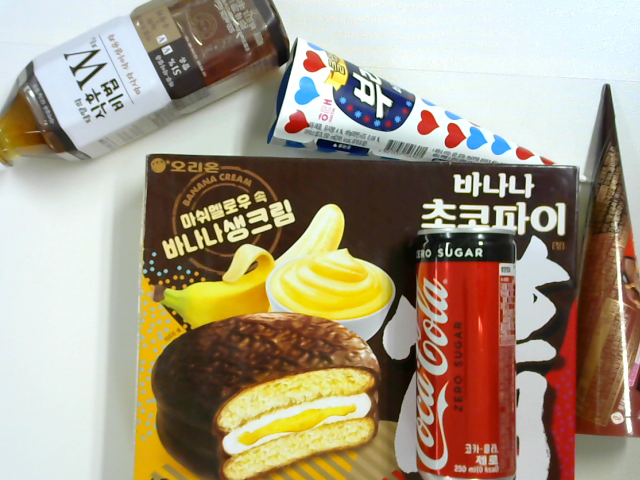Bravo_Cone_(Banila)_CVS: (256, 41, 599, 182)
Choco_Pie_Banana: (142, 150, 581, 480)
Coca_Cola_Zero_Can_250ml: (404, 225, 523, 480)
Post-meal_recipe_W_tea_500ml: (1, 3, 294, 164)
World_Cone_Choco: (566, 93, 640, 434)
